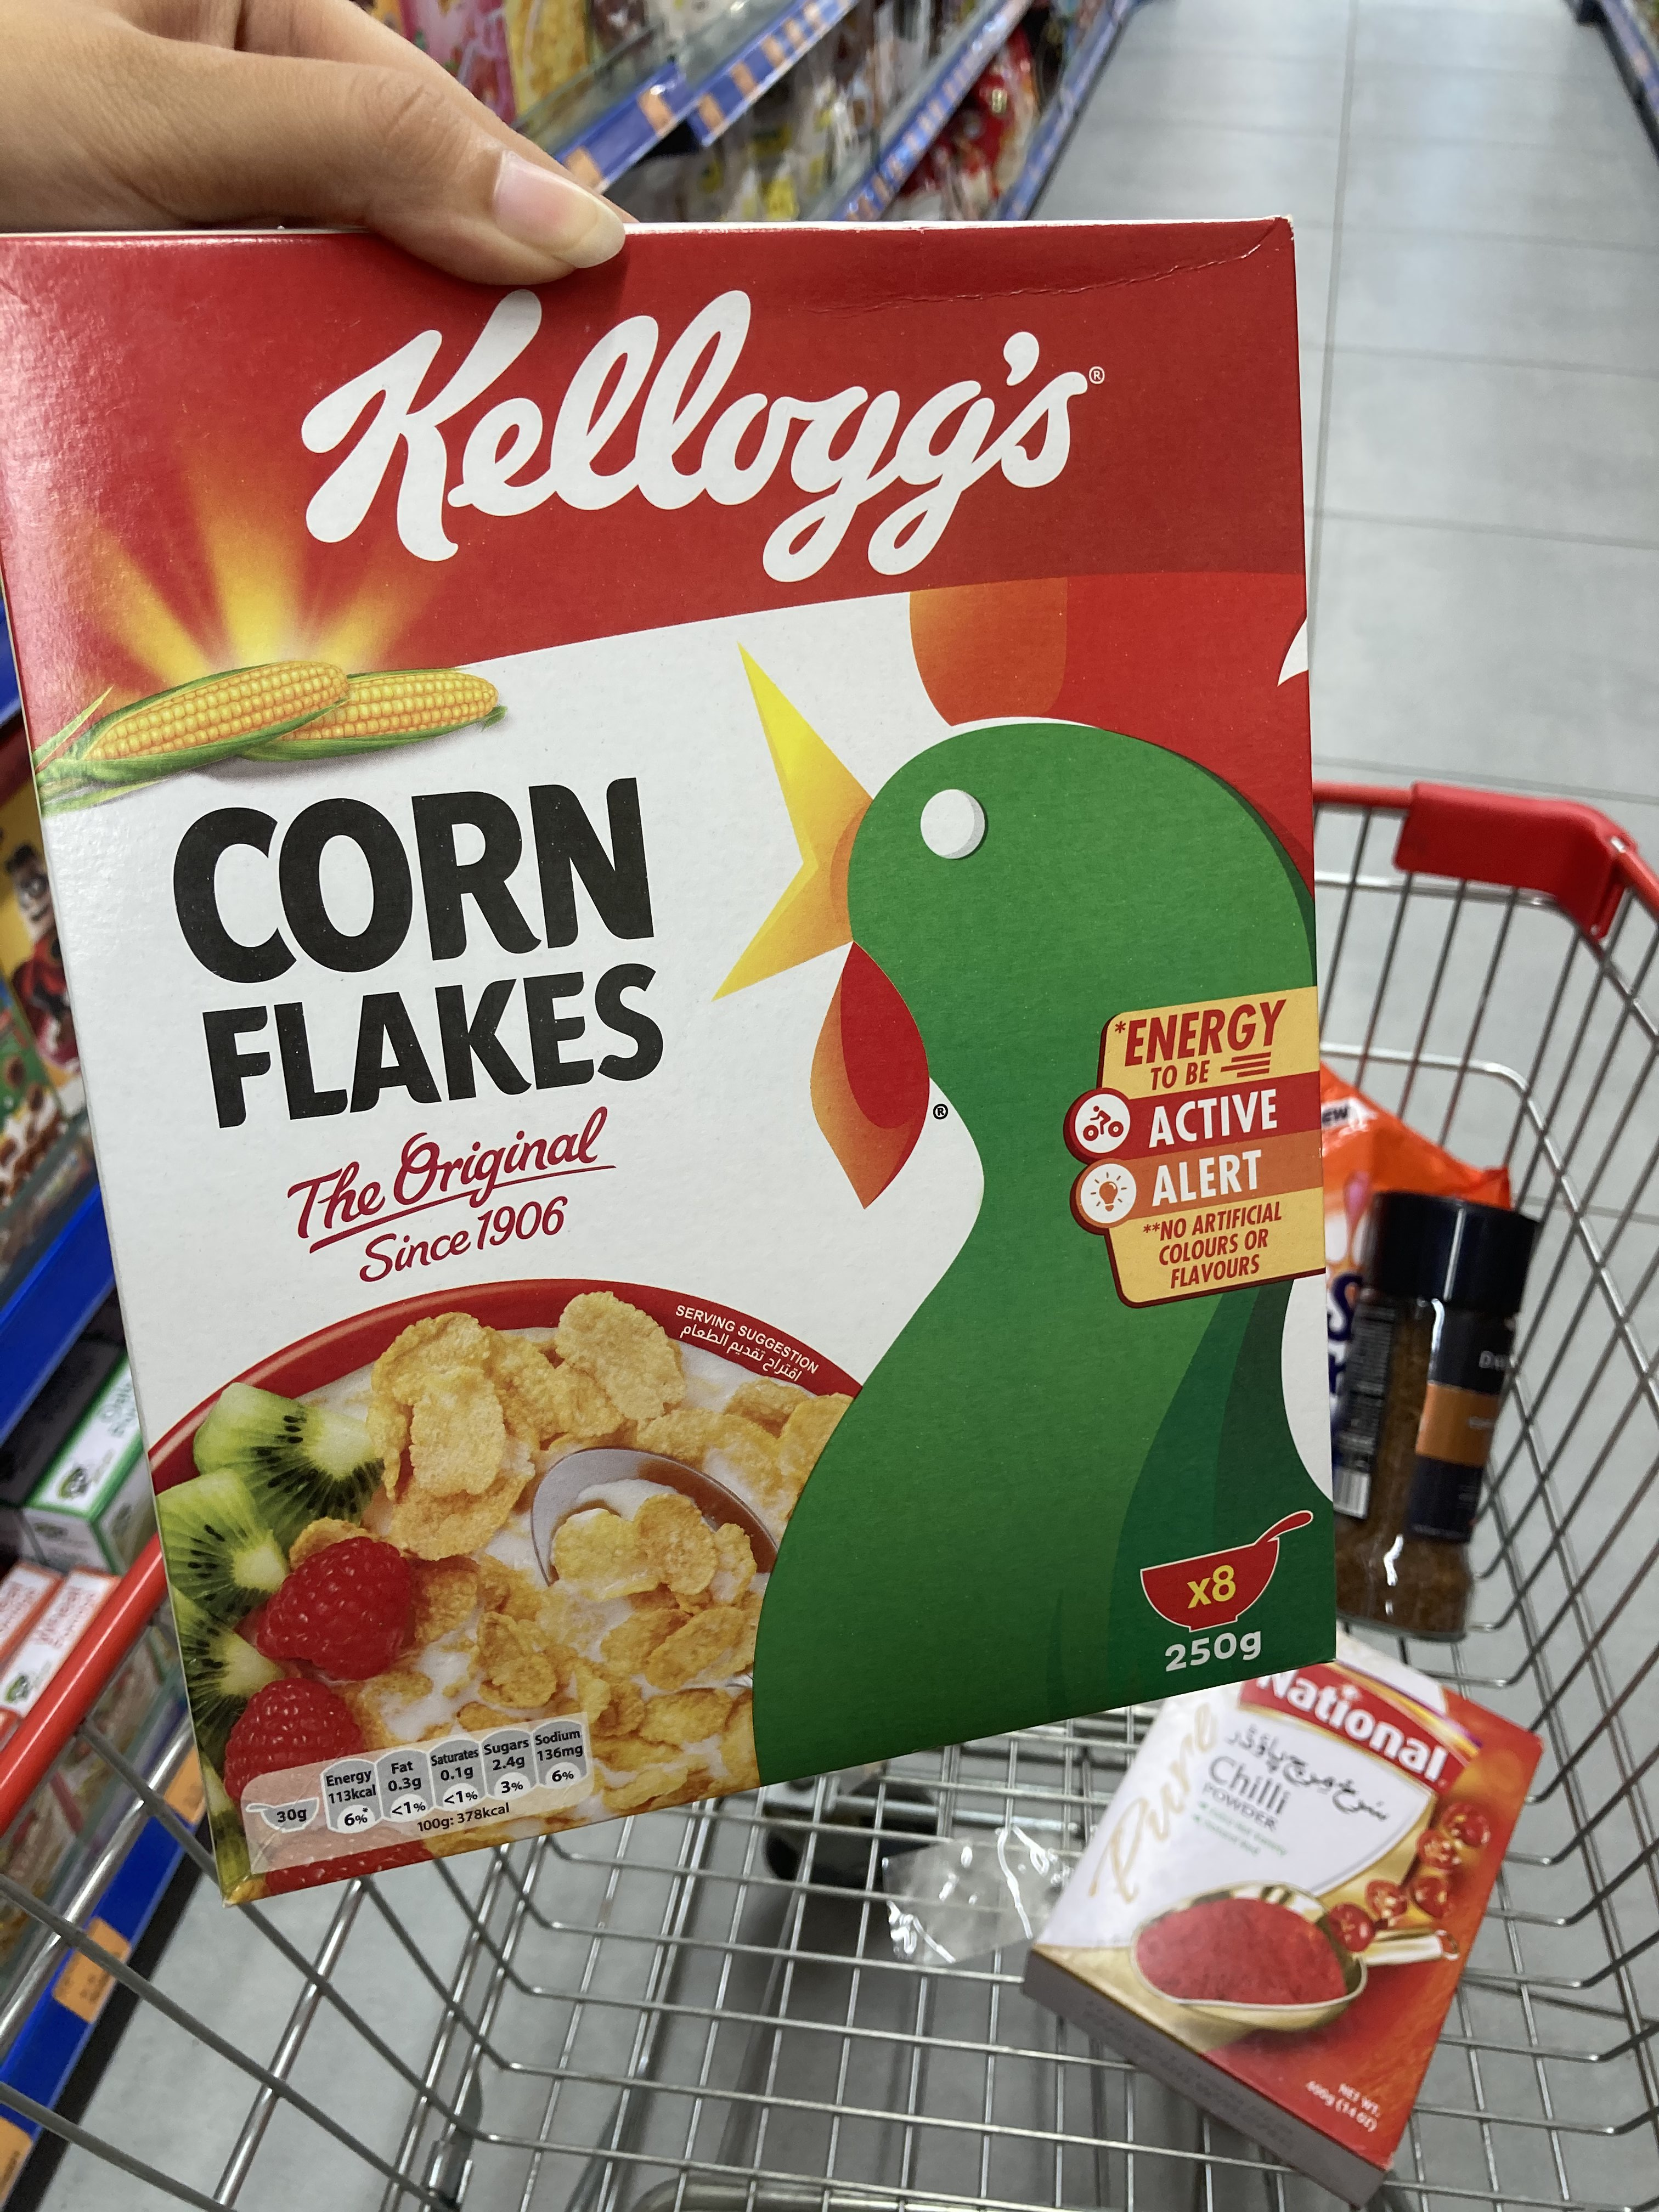Kellogg's Corn Flakes: (9, 218, 1399, 1909)
